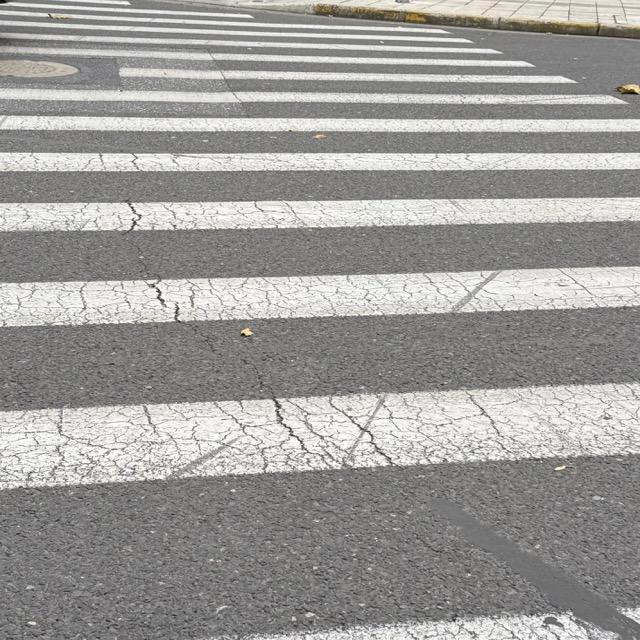curb: (314, 6, 639, 39)
